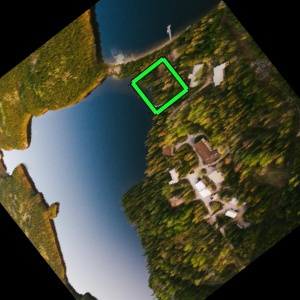square: (127, 54, 192, 117)
